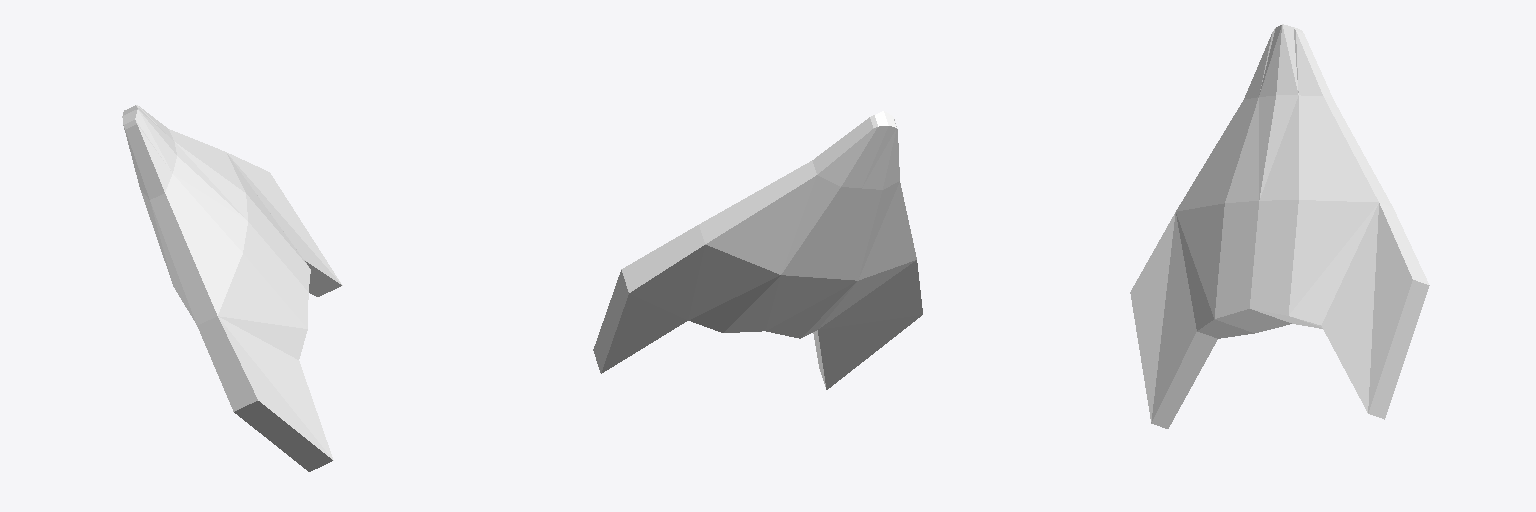
File: myship.obj
3 views of the same model, side by side, from view 1: azimuth 30°, elevation 25°; view 2: azimuth 150°, elevation 25°; view 3: azimuth 270°, elevation 25° (orthographic).
Visible parts, largest first — view 1: cube1_cube1_auv; view 2: cube1_cube1_auv; view 3: cube1_cube1_auv.
Part boxes in pixels (left/top/right/bottom): cube1_cube1_auv: left=122, top=105, right=342, bottom=471; cube1_cube1_auv: left=593, top=111, right=922, bottom=389; cube1_cube1_auv: left=1130, top=24, right=1429, bottom=428.
Bounding box in the file's own units: 1.13 × 1.44 × 1.12.